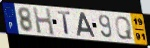8: (17, 6, 35, 34)
9: (98, 14, 114, 39)
A: (76, 12, 97, 39)
H: (32, 6, 56, 37)
Q: (114, 15, 134, 41)
T: (57, 10, 72, 36)
